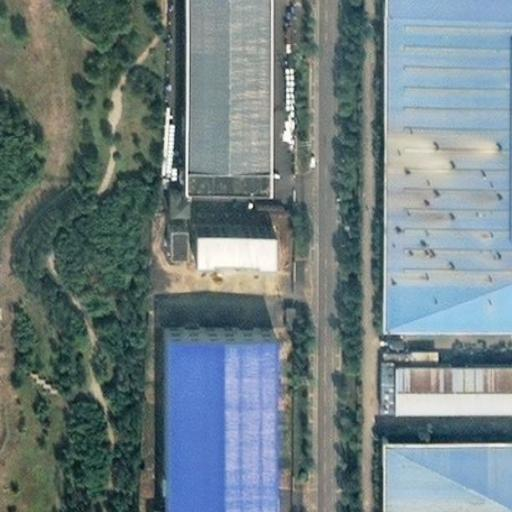building: (142, 301, 270, 512), (386, 440, 511, 512), (375, 347, 512, 399), (197, 232, 280, 269), (187, 170, 274, 196), (165, 146, 247, 167), (154, 210, 175, 240)
